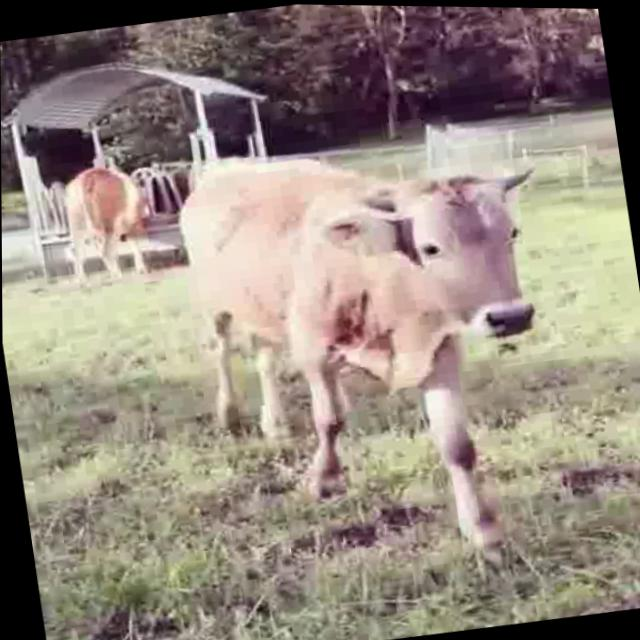cowFace: (319, 155, 567, 359)
